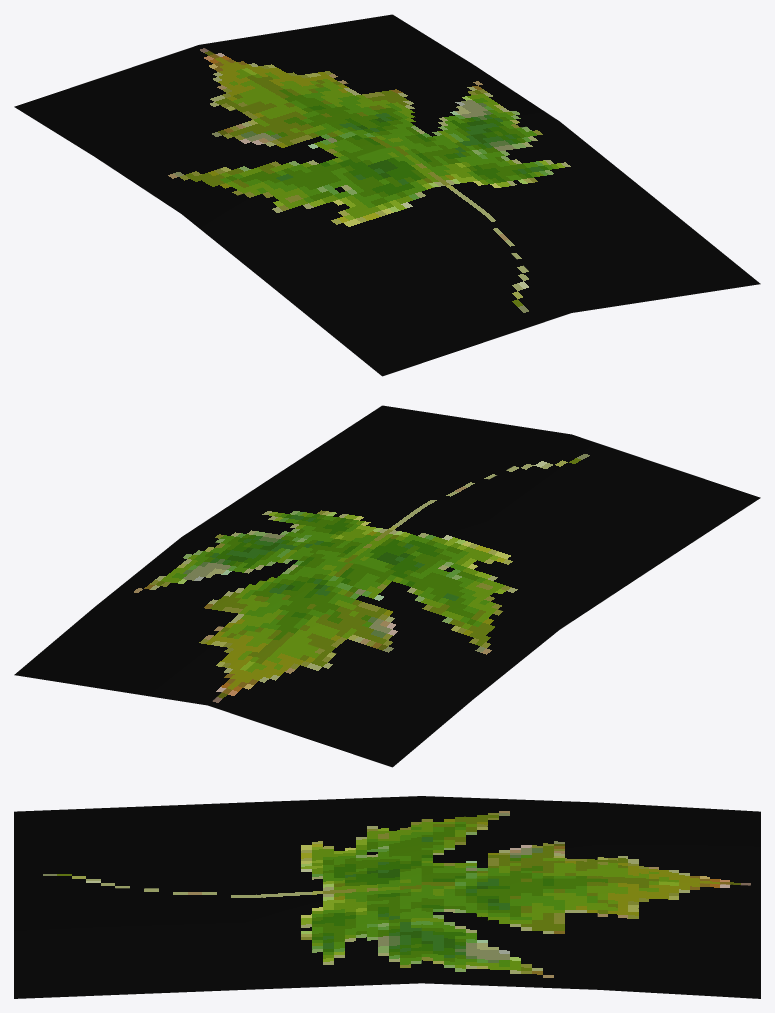
The model's file is green_maple_leaf_low-poly.obj.
3 renders of one model, top to bottom at view 1: azimuth 30°, elevation 25°; view 2: azimuth 150°, elevation 25°; view 3: azimuth 270°, elevation 25°, orthographic.
Visible parts, largest first — view 1: pPlane1_lambert1_0; view 2: pPlane1_lambert1_0; view 3: pPlane1_lambert1_0.
Part boxes in pixels (box(x1,y1,x2,y2)): pPlane1_lambert1_0: box(14, 14, 760, 376); pPlane1_lambert1_0: box(14, 405, 760, 767); pPlane1_lambert1_0: box(14, 796, 760, 998).
Size of the model in its own units: 0.0408 by 0.00326 by 0.0688.
